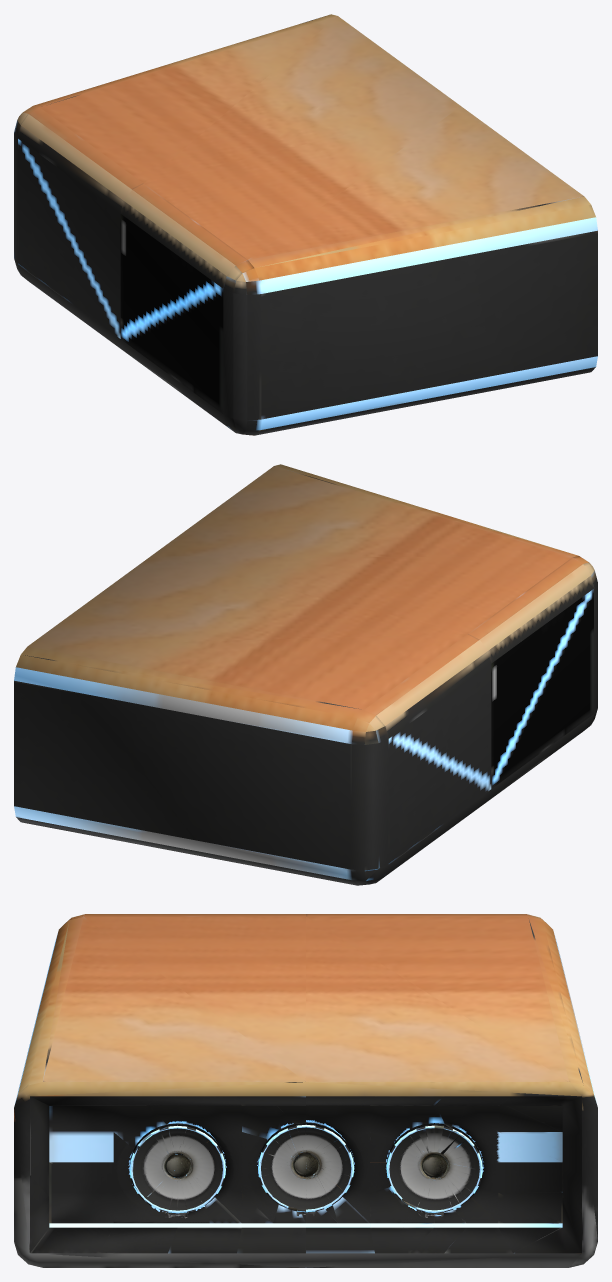
Rendered from speakerPlatBlue.glb.
3 views of the same model, one above another, from view 1: azimuth 30°, elevation 25°; view 2: azimuth 150°, elevation 25°; view 3: azimuth 270°, elevation 25° (orthographic). The views are drawn at different scales.
Parts seen in each view (by area): view 1: 4-speaker-dynaudio-LP.blue; view 2: 4-speaker-dynaudio-LP.blue; view 3: 4-speaker-dynaudio-LP.blue.
Boxes of the visible parts, left/top/right/bottom form: 4-speaker-dynaudio-LP.blue: left=14, top=14, right=597, bottom=435; 4-speaker-dynaudio-LP.blue: left=14, top=464, right=597, bottom=885; 4-speaker-dynaudio-LP.blue: left=14, top=914, right=597, bottom=1267.
Size of the model in its own units: 1.44 by 0.7023 by 2.
Materials: 1 (1 with a texture image).
